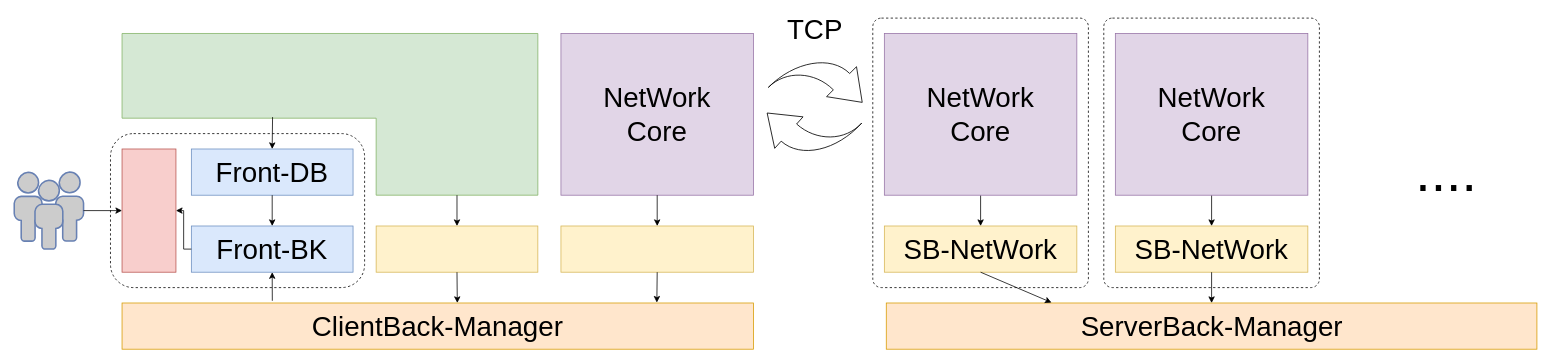
This 1550x363 diagram has some shape labels left out. Each missing label, with the centre of its shape:
CB-DB: [456,248]
CB-NetWork: [656,248]
DB: [329,114]
UI: [148,210]
